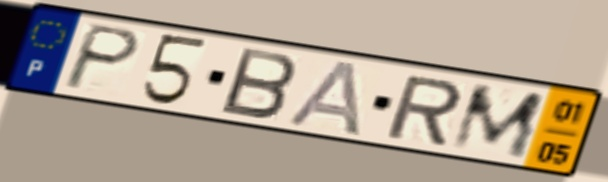5: (139, 30, 213, 107)
A: (283, 58, 364, 139)
B: (218, 44, 301, 121)
M: (446, 82, 550, 162)
P: (58, 21, 145, 93)
R: (381, 73, 466, 147)
